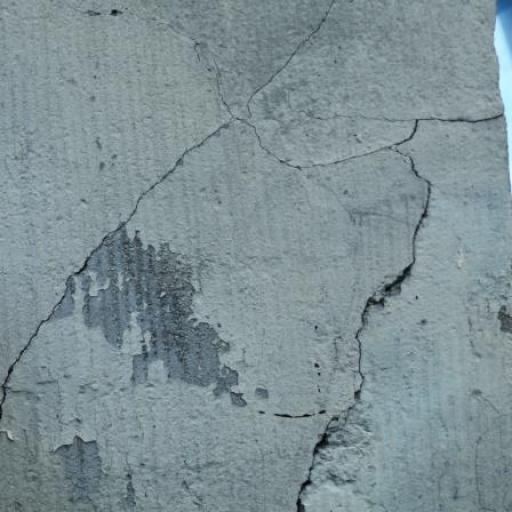spalling: (293, 107, 505, 509), (0, 119, 226, 418), (242, 3, 386, 173)
